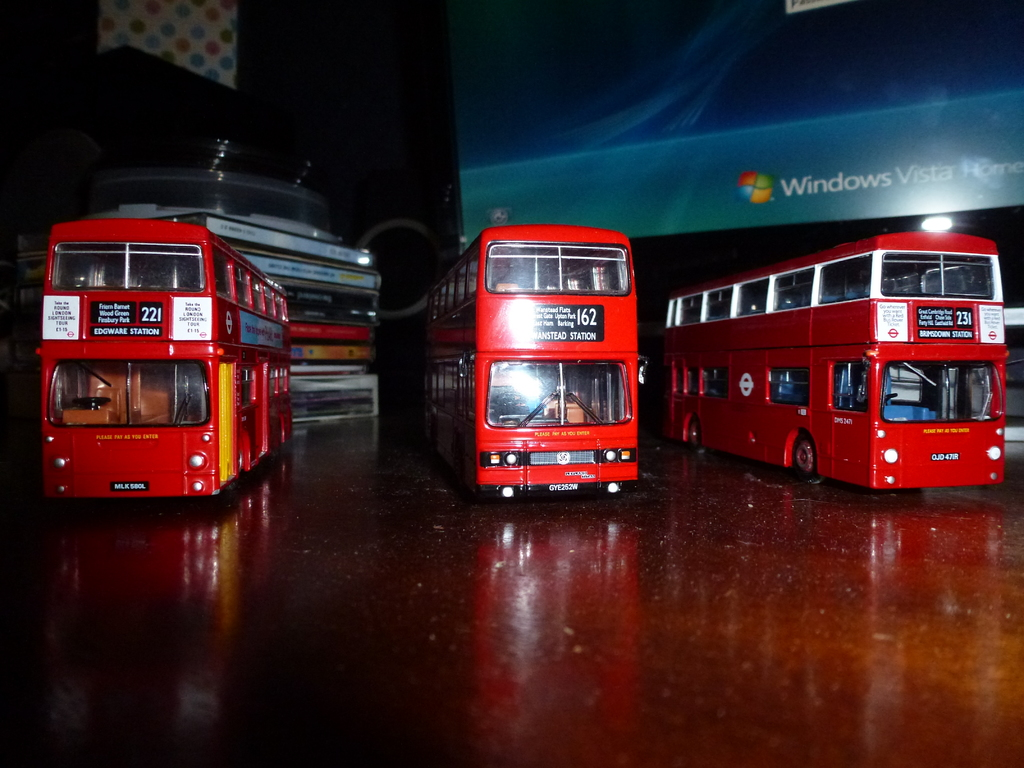Bus: (663, 227, 1012, 492), (33, 219, 293, 499), (419, 216, 648, 503)
